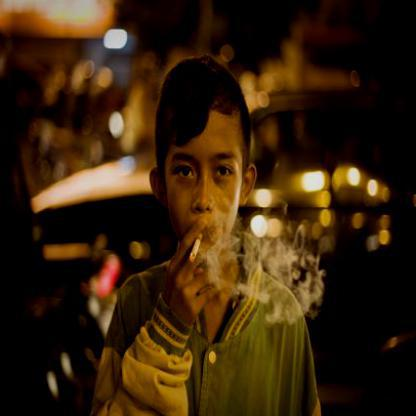cigarette: (187, 230, 204, 264)
person: (95, 57, 290, 415)
smoke: (222, 219, 325, 329)
